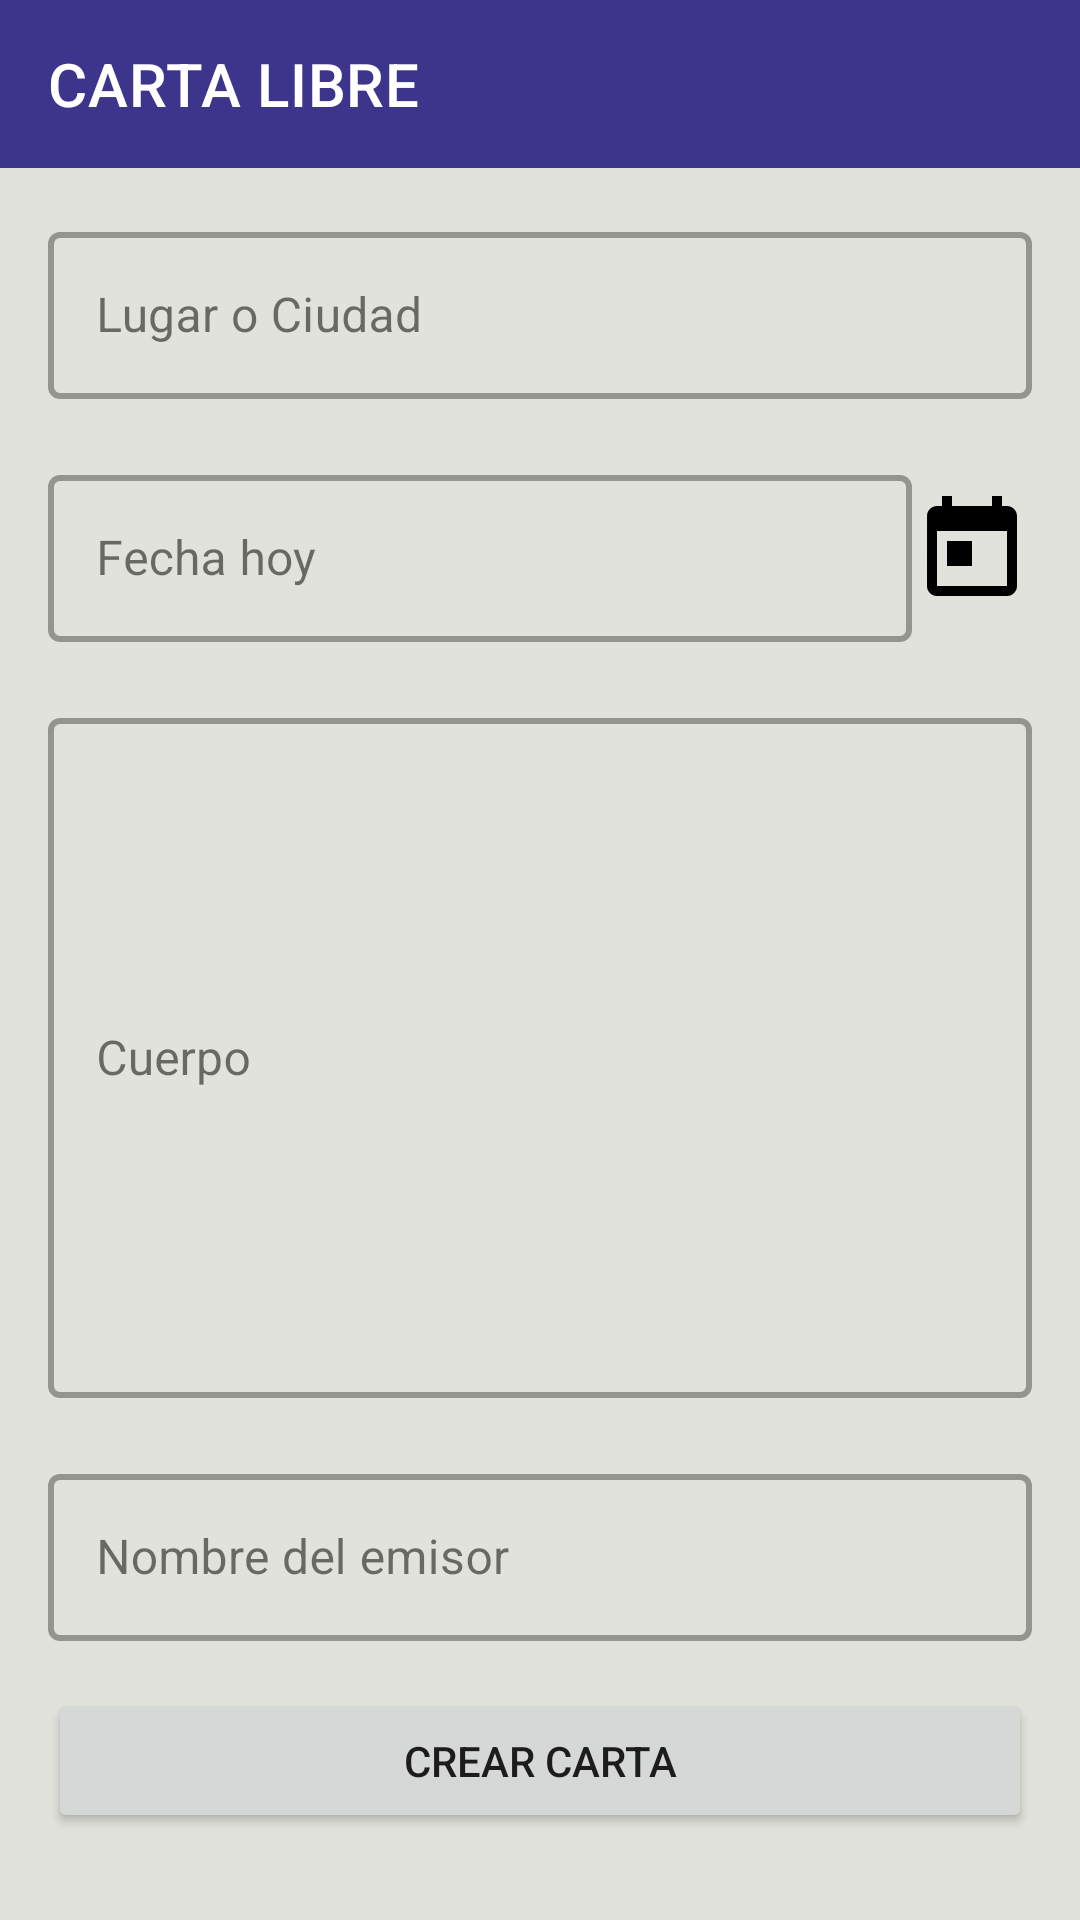

Where icons sit on this 1080px×1920px app screen, as (x1, y1, x2, y2):
today: (927, 496, 1017, 596)
